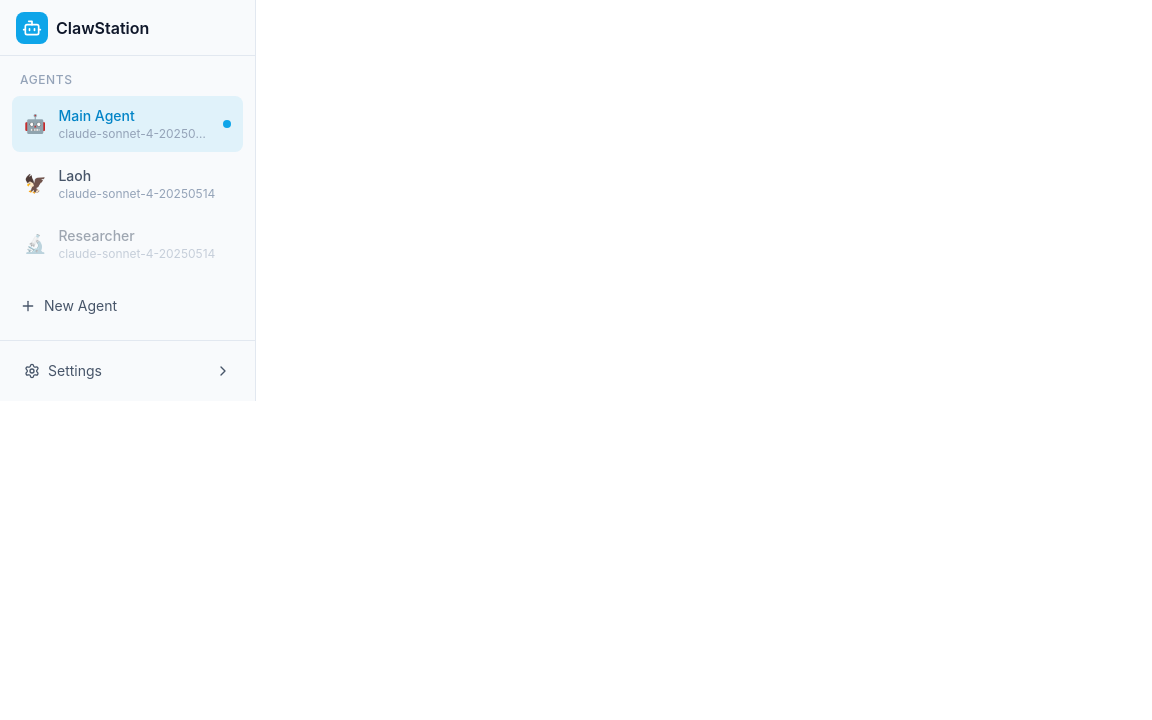
Test: SettingsModal › closes via escape and backdrop
Click the button "Settings": [128, 371] box 12,353 -> 243,389
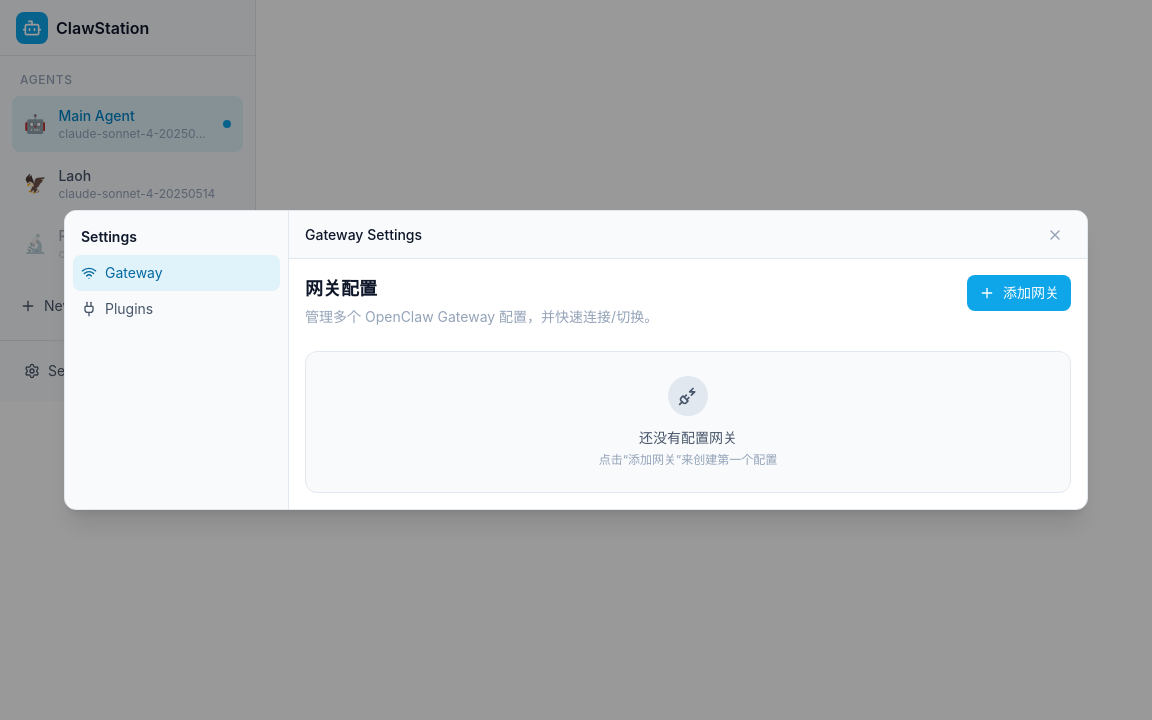
expect the text "Gateway Settings" is shown: met, box 305,224 -> 422,244
Press Escape
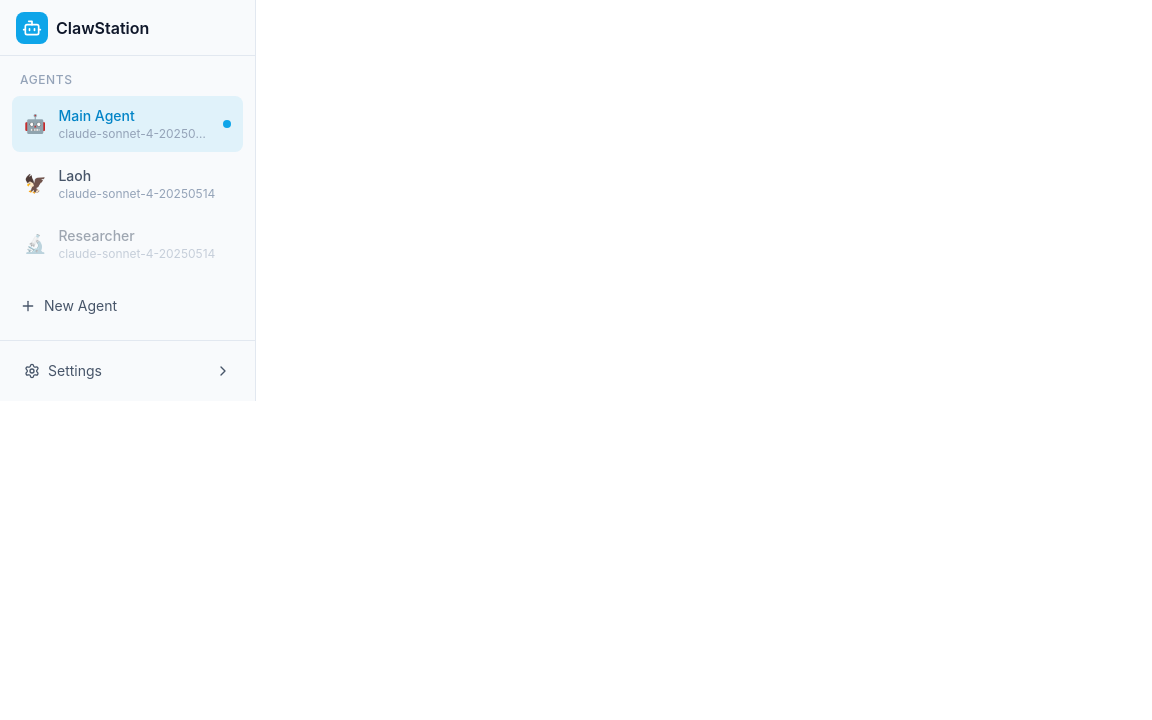
expect the text "Gateway Settings" is gone: met
Click the button "Settings": [128, 371] box 12,353 -> 243,389
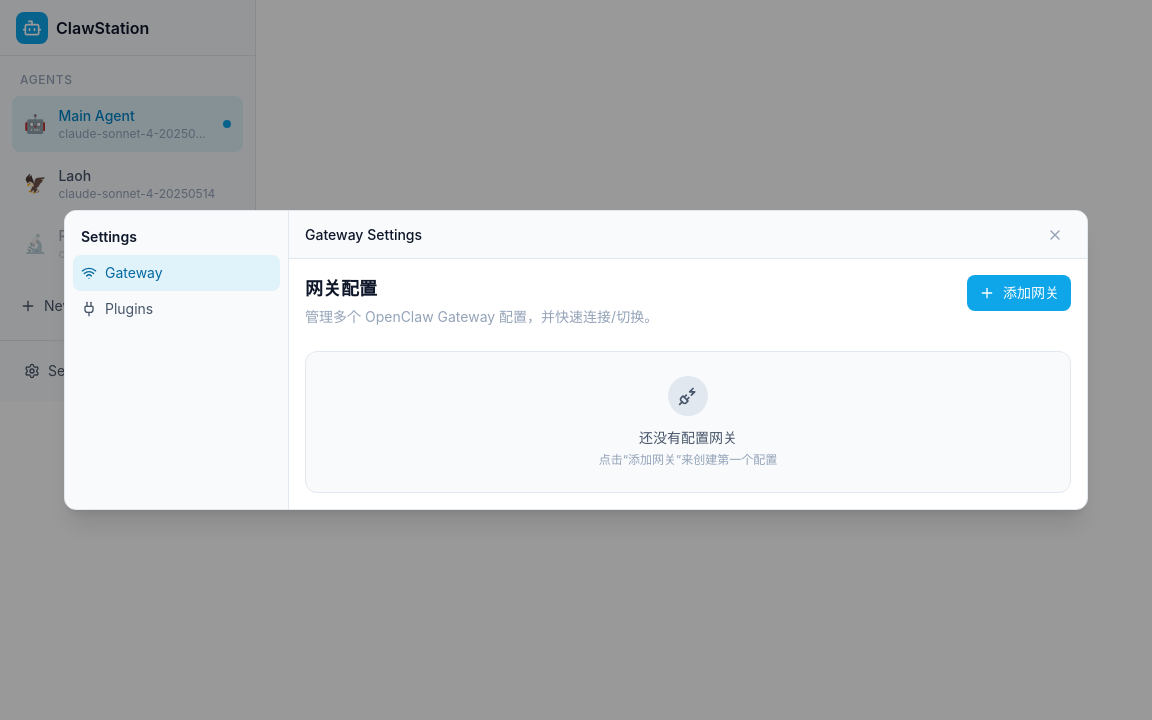
expect the text "Gateway Settings" is shown: met, box 305,224 -> 422,244
Click the button named "Close settings": [576, 677] box 0,0 -> 1151,719
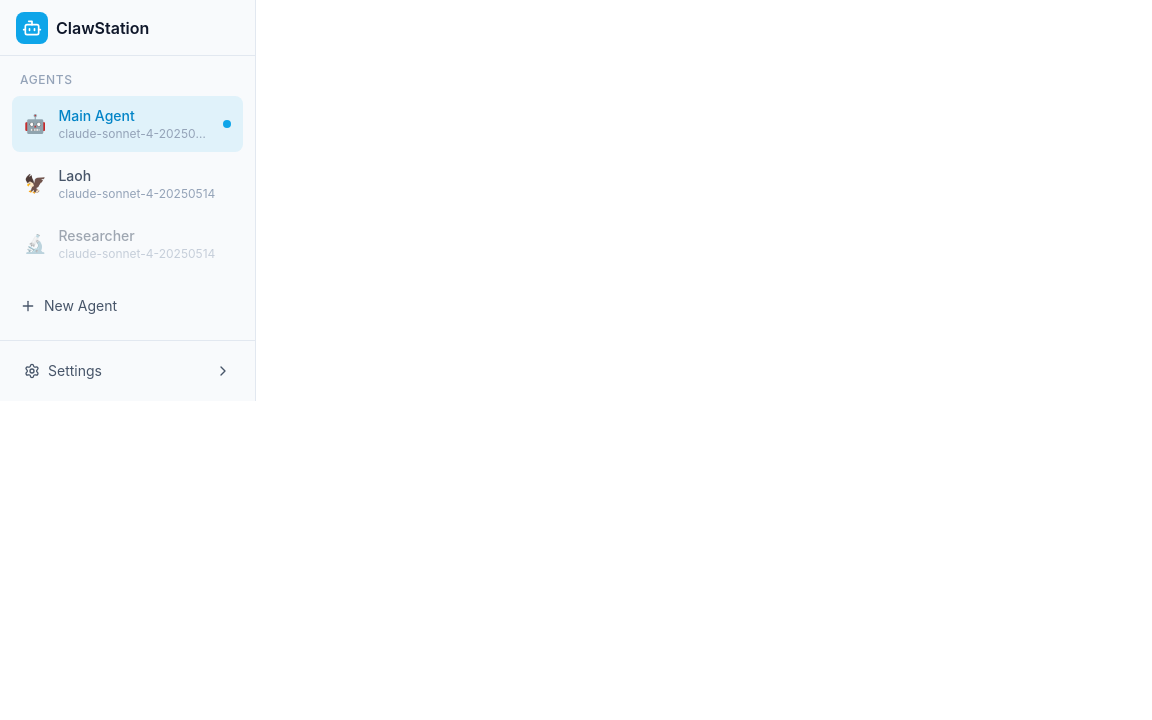
expect the text "Gateway Settings" is gone: met
